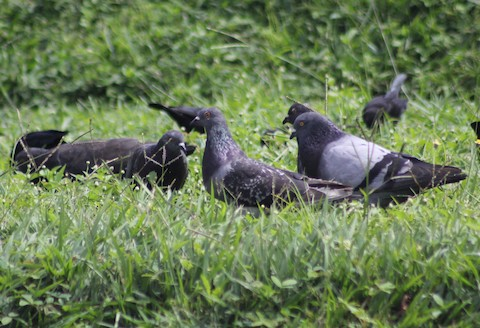pigeon: (183, 106, 361, 214), (289, 114, 471, 203), (9, 128, 148, 188), (120, 130, 194, 193), (276, 104, 366, 153), (352, 74, 416, 130), (144, 96, 226, 135)
